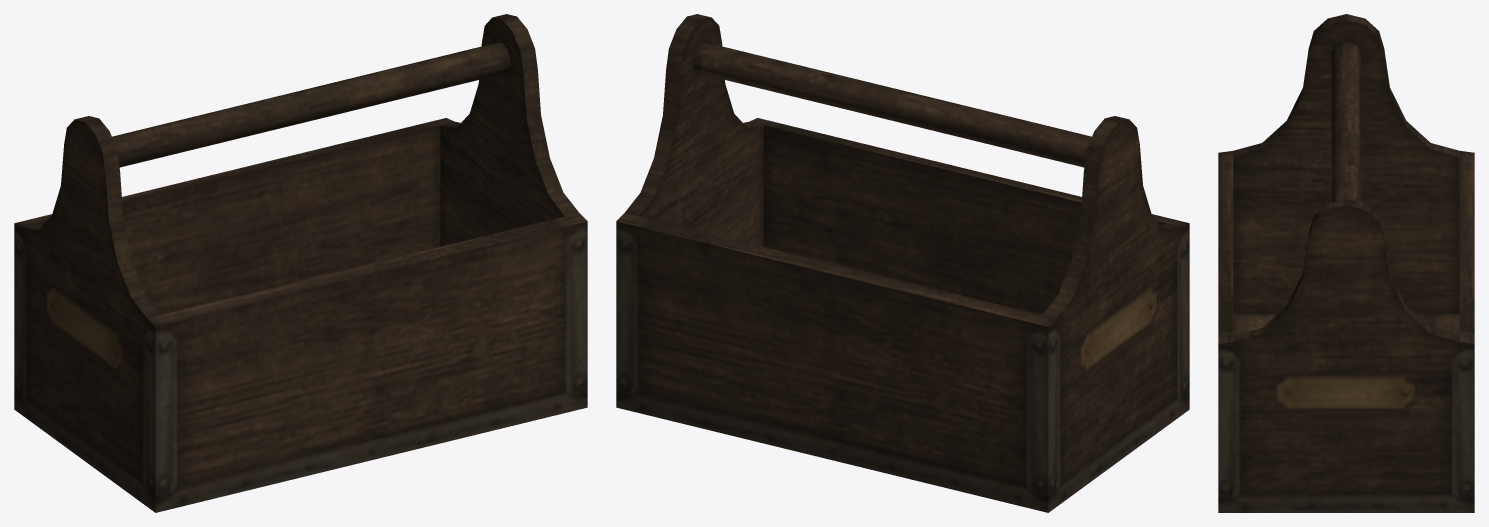
File: toolbox_mx_1.dae
The picture shows the model from 3 angles, left to right: view 1: azimuth 30°, elevation 25°; view 2: azimuth 150°, elevation 25°; view 3: azimuth 270°, elevation 25°; orthographic projection. The views are drawn at different scales.
Parts seen in each view (by area): view 1: toolbox_mx_1; view 2: toolbox_mx_1; view 3: toolbox_mx_1.
Part boxes in pixels (left/top/right/bottom): toolbox_mx_1: left=14, top=14, right=587, bottom=512; toolbox_mx_1: left=616, top=14, right=1189, bottom=512; toolbox_mx_1: left=1218, top=14, right=1474, bottom=512.
Size of the model in its own units: 0.6 by 0.34 by 0.45.
Materials: 1 (1 with a texture image).
